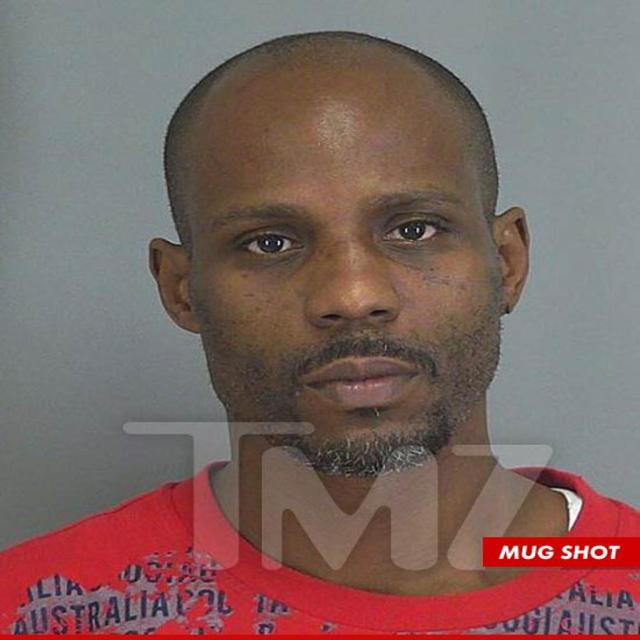Face: (156, 45, 535, 474)
